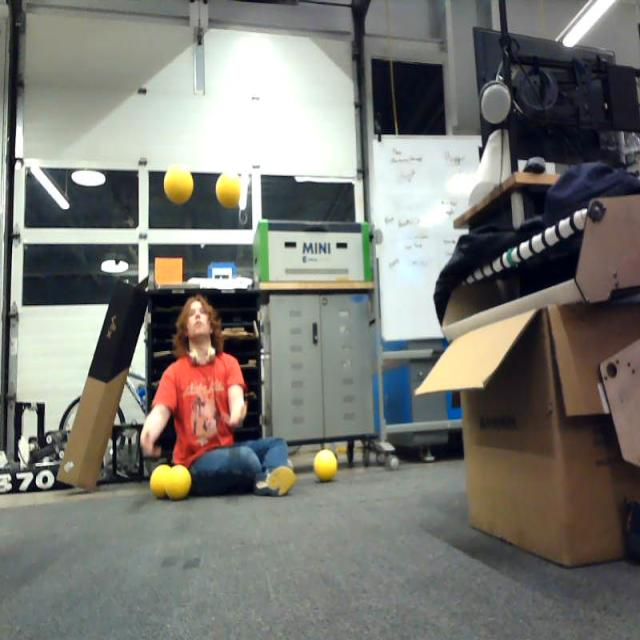Fuel: (164, 164, 193, 204), (216, 172, 242, 208), (165, 465, 191, 499), (150, 465, 172, 500), (315, 450, 337, 482)
